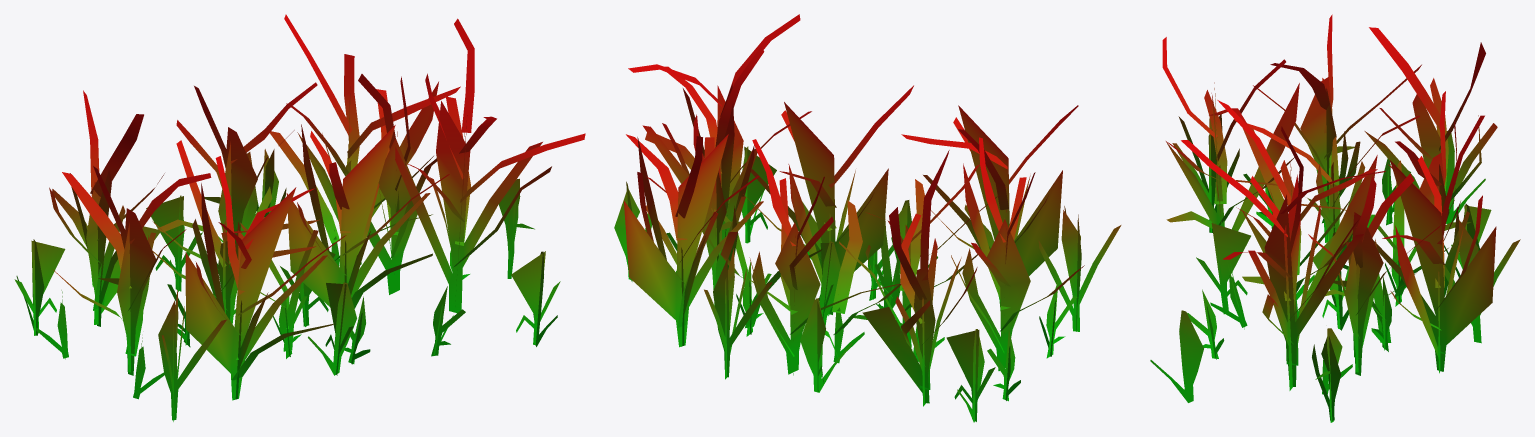
Rendered from Var1_LOD1.fbx.
3 views of the same model, side by side, from view 1: azimuth 30°, elevation 25°; view 2: azimuth 150°, elevation 25°; view 3: azimuth 270°, elevation 25° (orthographic). The views are drawn at different scales.
Parts seen in each view (by area): view 1: _dw7f_Var1_LOD1; view 2: _dw7f_Var1_LOD1; view 3: _dw7f_Var1_LOD1.
Boxes of the visible parts, left/top/right/bottom form: _dw7f_Var1_LOD1: left=14, top=14, right=585, bottom=421; _dw7f_Var1_LOD1: left=614, top=14, right=1121, bottom=422; _dw7f_Var1_LOD1: left=1150, top=14, right=1520, bottom=422.
Bounding box in the file's own units: 43.48 × 21.9 × 29.34.
